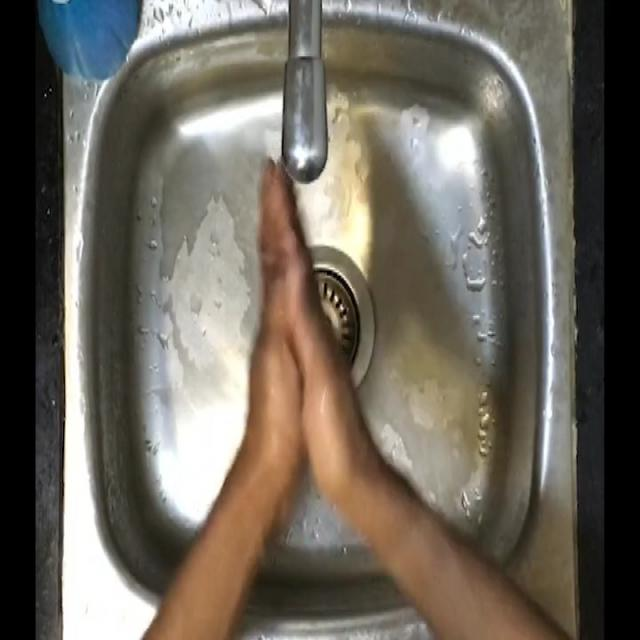step_1: (231, 140, 369, 470)
